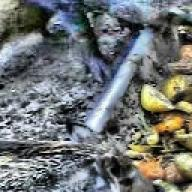boar: (0, 130, 164, 192)
